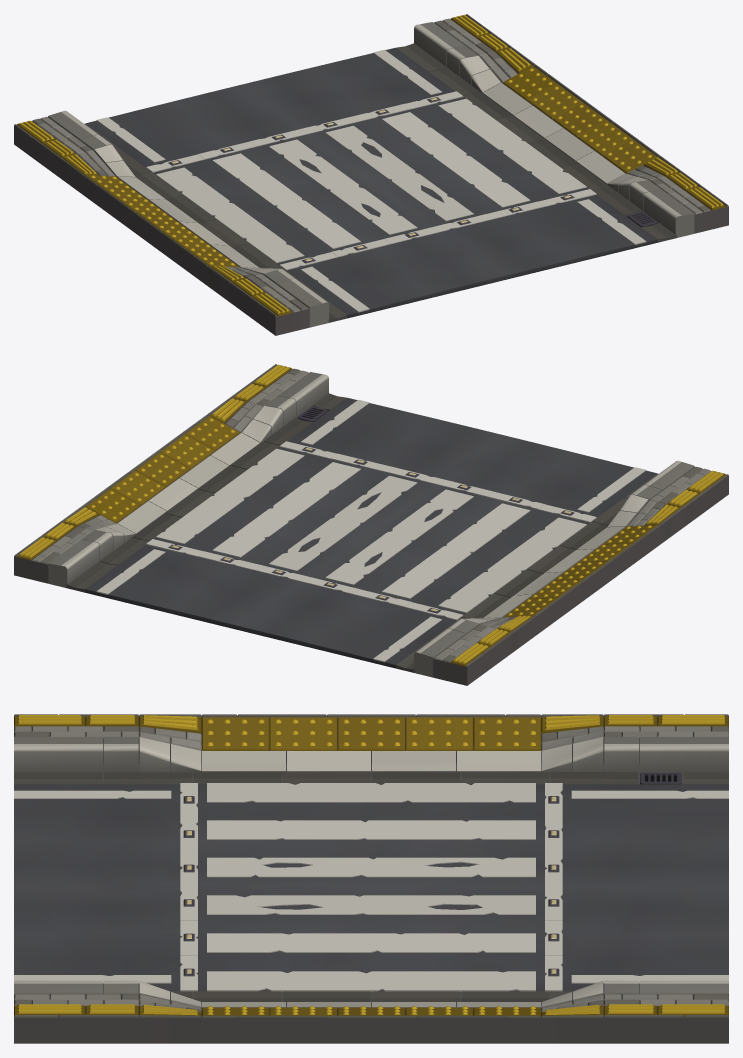
File: road-crossing-curbcut.glb
The picture shows the model from 3 angles, top to bottom: view 1: azimuth 30°, elevation 25°; view 2: azimuth 150°, elevation 25°; view 3: azimuth 270°, elevation 25°; orthographic projection. The views are drawn at different scales.
Visible parts, largest first — view 1: road_crossing_curbcut_01; view 2: road_crossing_curbcut_01; view 3: road_crossing_curbcut_01.
Boxes of the visible parts, x1,y1,x2,y2 form: road_crossing_curbcut_01: (14, 14, 728, 335); road_crossing_curbcut_01: (14, 364, 728, 685); road_crossing_curbcut_01: (14, 714, 728, 1043).
Size of the model in its own units: 4 by 0.1819 by 4.
